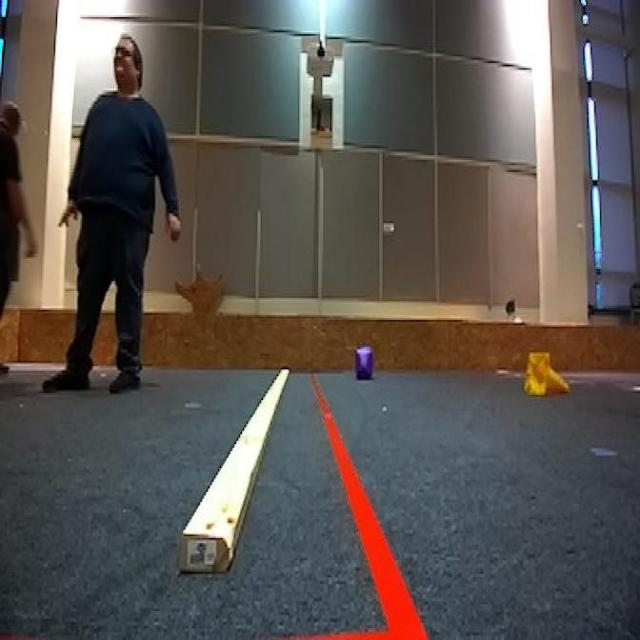frc_cone: (522, 348, 568, 398)
frc_cube: (356, 347, 374, 380)
